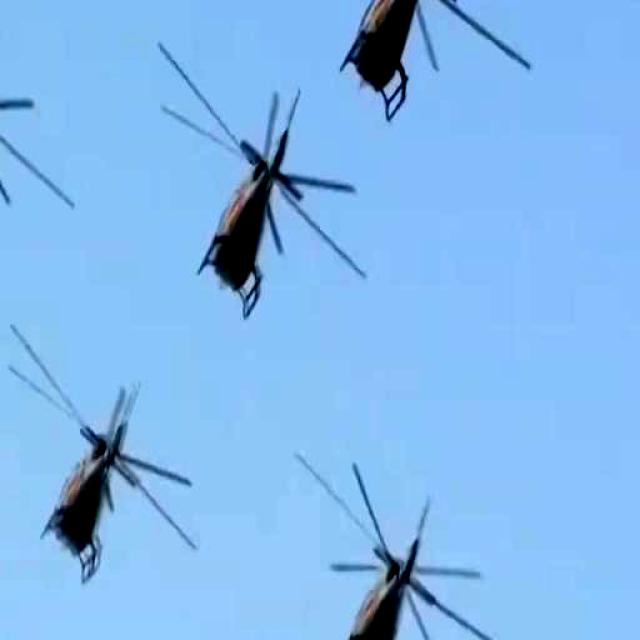drone: (164, 15, 352, 330), (11, 304, 196, 594), (322, 454, 509, 640), (301, 0, 534, 114), (0, 0, 75, 251)
